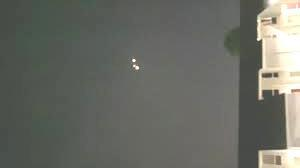Plane: (119, 50, 151, 77)
